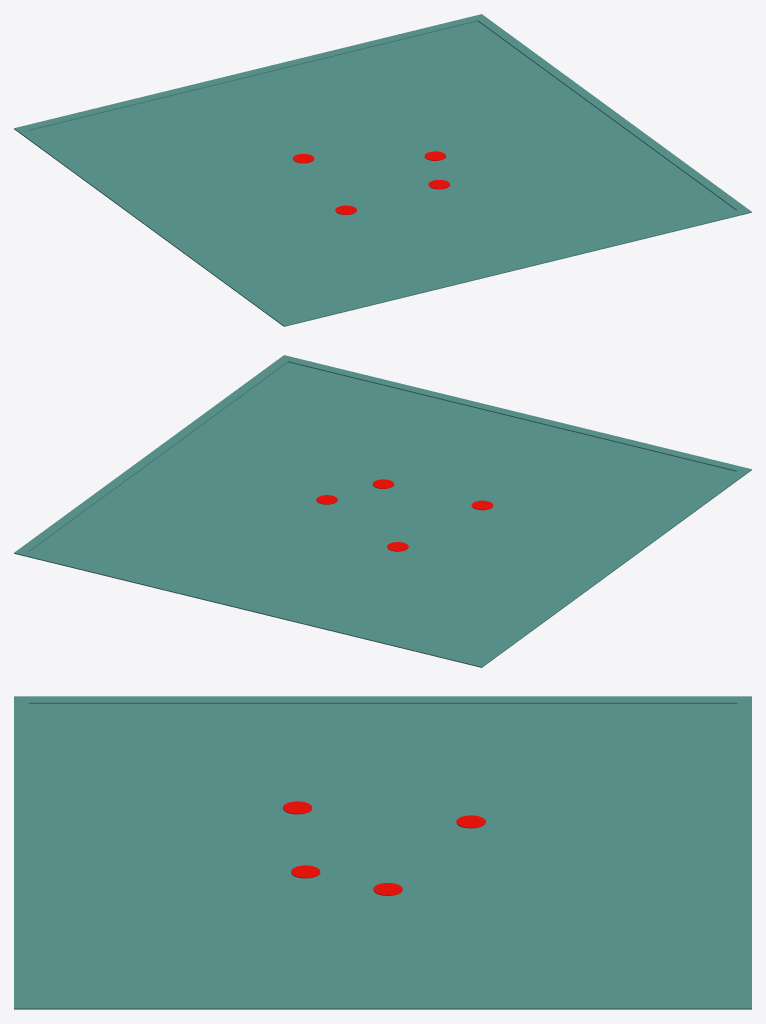
Rendered from rc-track.dae.
3 renders of one model, top to bottom at view 1: azimuth 30°, elevation 25°; view 2: azimuth 150°, elevation 25°; view 3: azimuth 270°, elevation 25°, orthographic. The views are drawn at different scales.
Parts seen in each view (by area): view 1: instance_0 (×2); view 2: instance_0 (×2); view 3: instance_0 (×2).
Boxes of the visible parts, box(x1,y1,x2,y2) form: instance_0 (×2): box(14, 14, 751, 326); instance_0 (×2): box(14, 355, 751, 667); instance_0 (×2): box(14, 696, 751, 1009).
Bounding box in the file's own units: 1969 × 1969 × 3.94.
